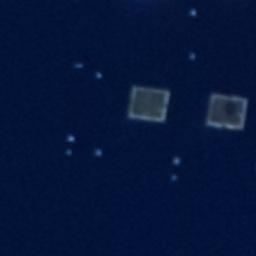square_cover: (122, 81, 171, 124), (201, 88, 250, 131)
